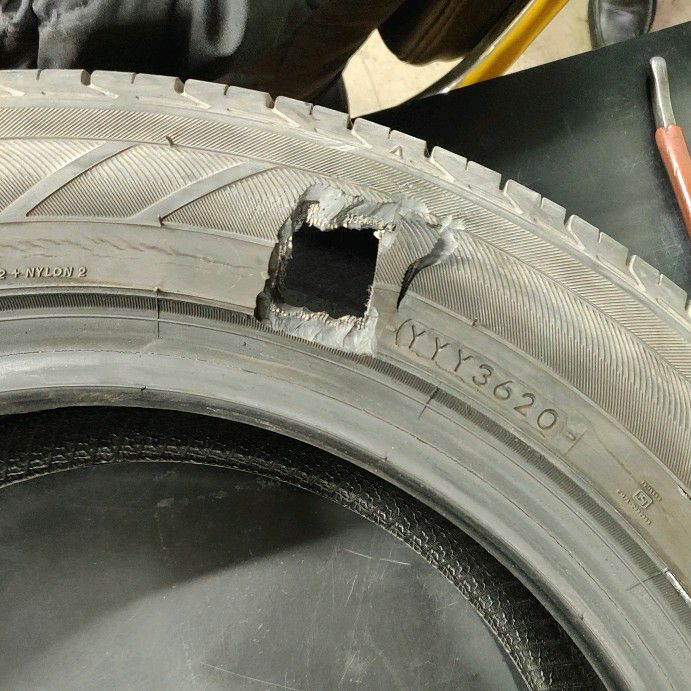bead_damage: (254, 184, 464, 351)
cut: (394, 238, 445, 313)
